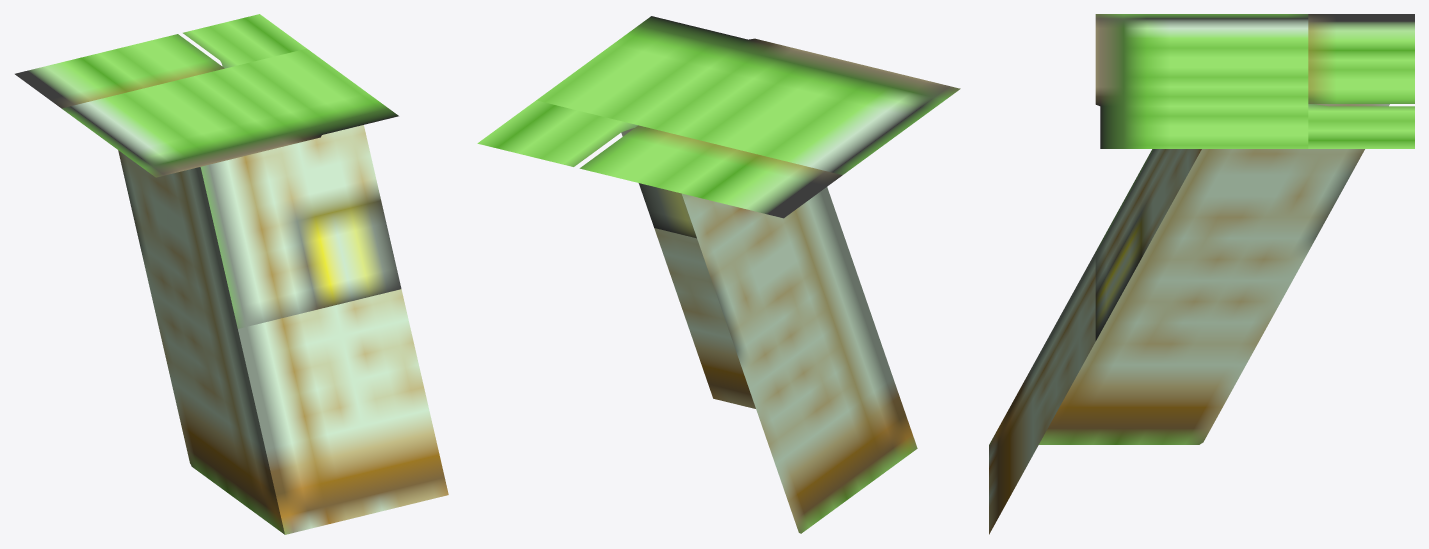
File: tile_lab_7.obj
3 views of the same model, side by side, from view 1: azimuth 30°, elevation 25°; view 2: azimuth 150°, elevation 25°; view 3: azimuth 270°, elevation 25° (orthographic). The views are drawn at different scales.
Parts seen in each view (by area): view 1: Default; view 2: Default; view 3: Default.
Boxes of the visible parts, box(x1,y1,x2,y2) form: Default: box(15, 14, 448, 534); Default: box(477, 16, 960, 533); Default: box(989, 14, 1414, 534).
Bounding box in the file's own units: 1.5 × 2 × 2.
